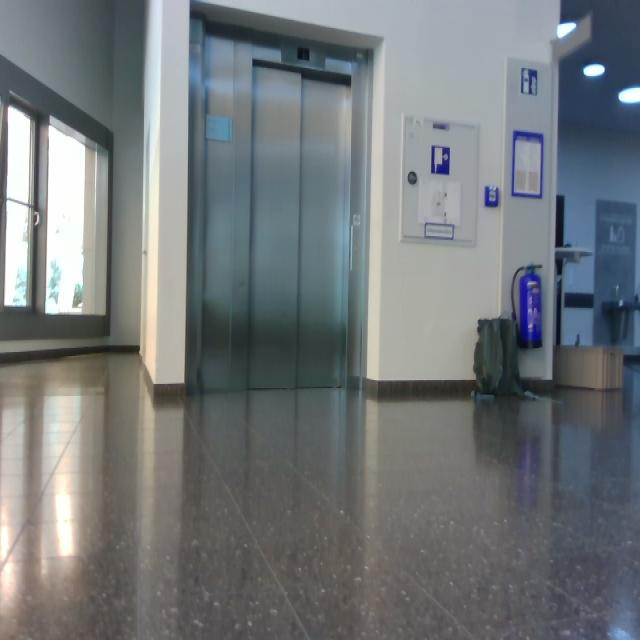door: (188, 16, 374, 394), (249, 59, 352, 391)
fire extinguisher: (512, 264, 543, 349)
light bulb: (618, 86, 640, 105), (557, 21, 577, 40), (583, 63, 605, 79)
pillar: (140, 1, 190, 390)
tiled floor: (2, 349, 639, 638)
